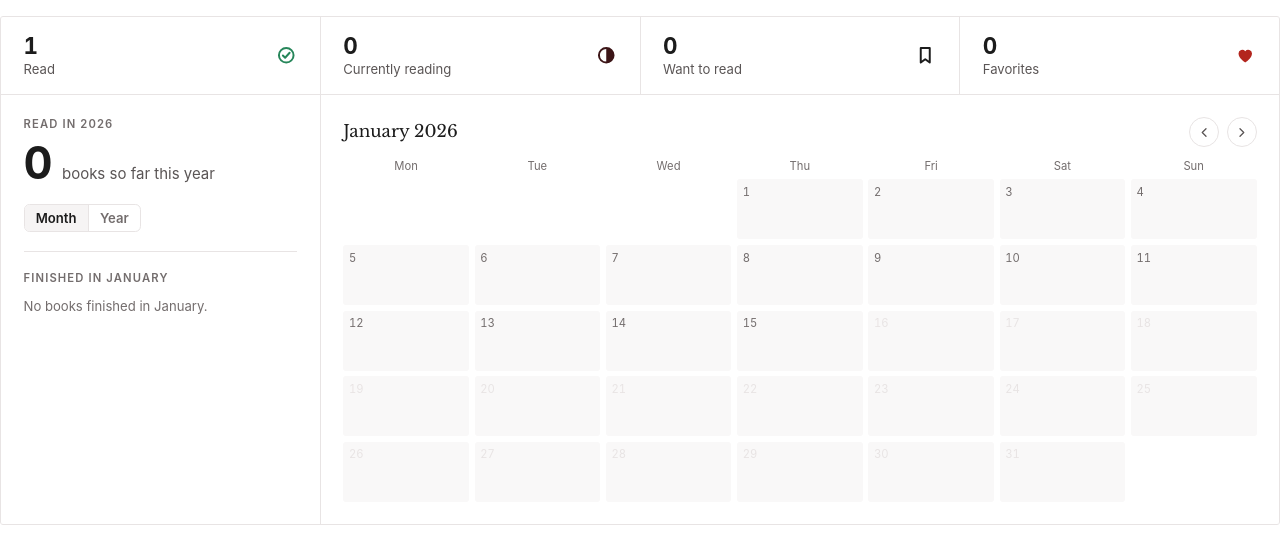
Test: ReadingStats › should step from January back to December of the year before
Click the button named "Previous month" at point(1204, 132), box [1189, 117, 1219, 147]
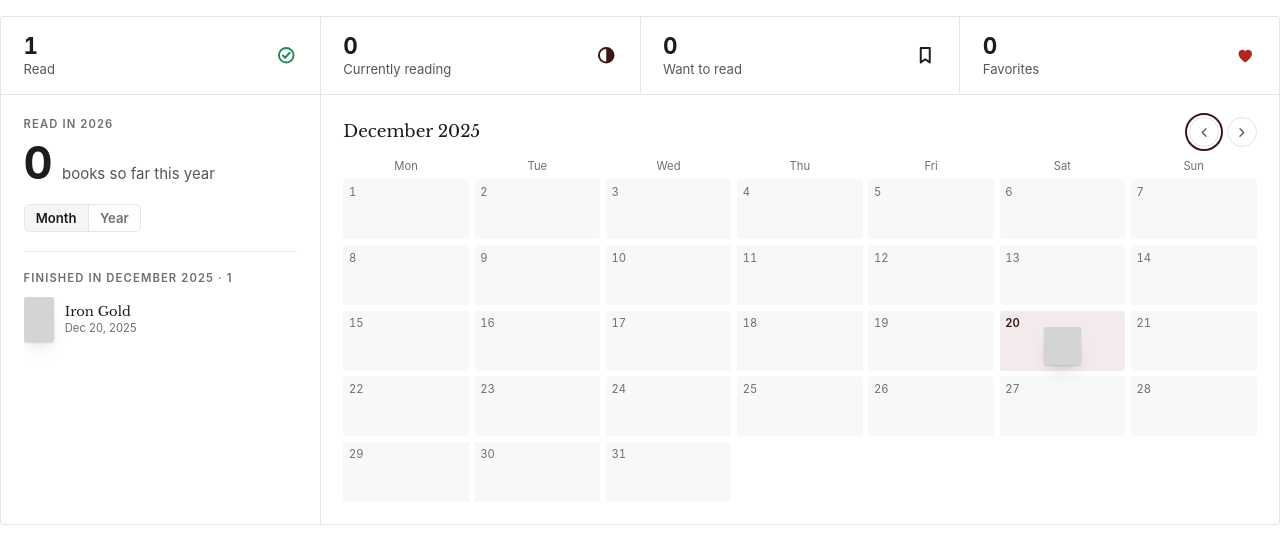
Check: the text "December 2025" is shown, box [343, 119, 480, 146]
Check: the text "Finished in December 2025 · 1" is shown, box [24, 271, 233, 285]
